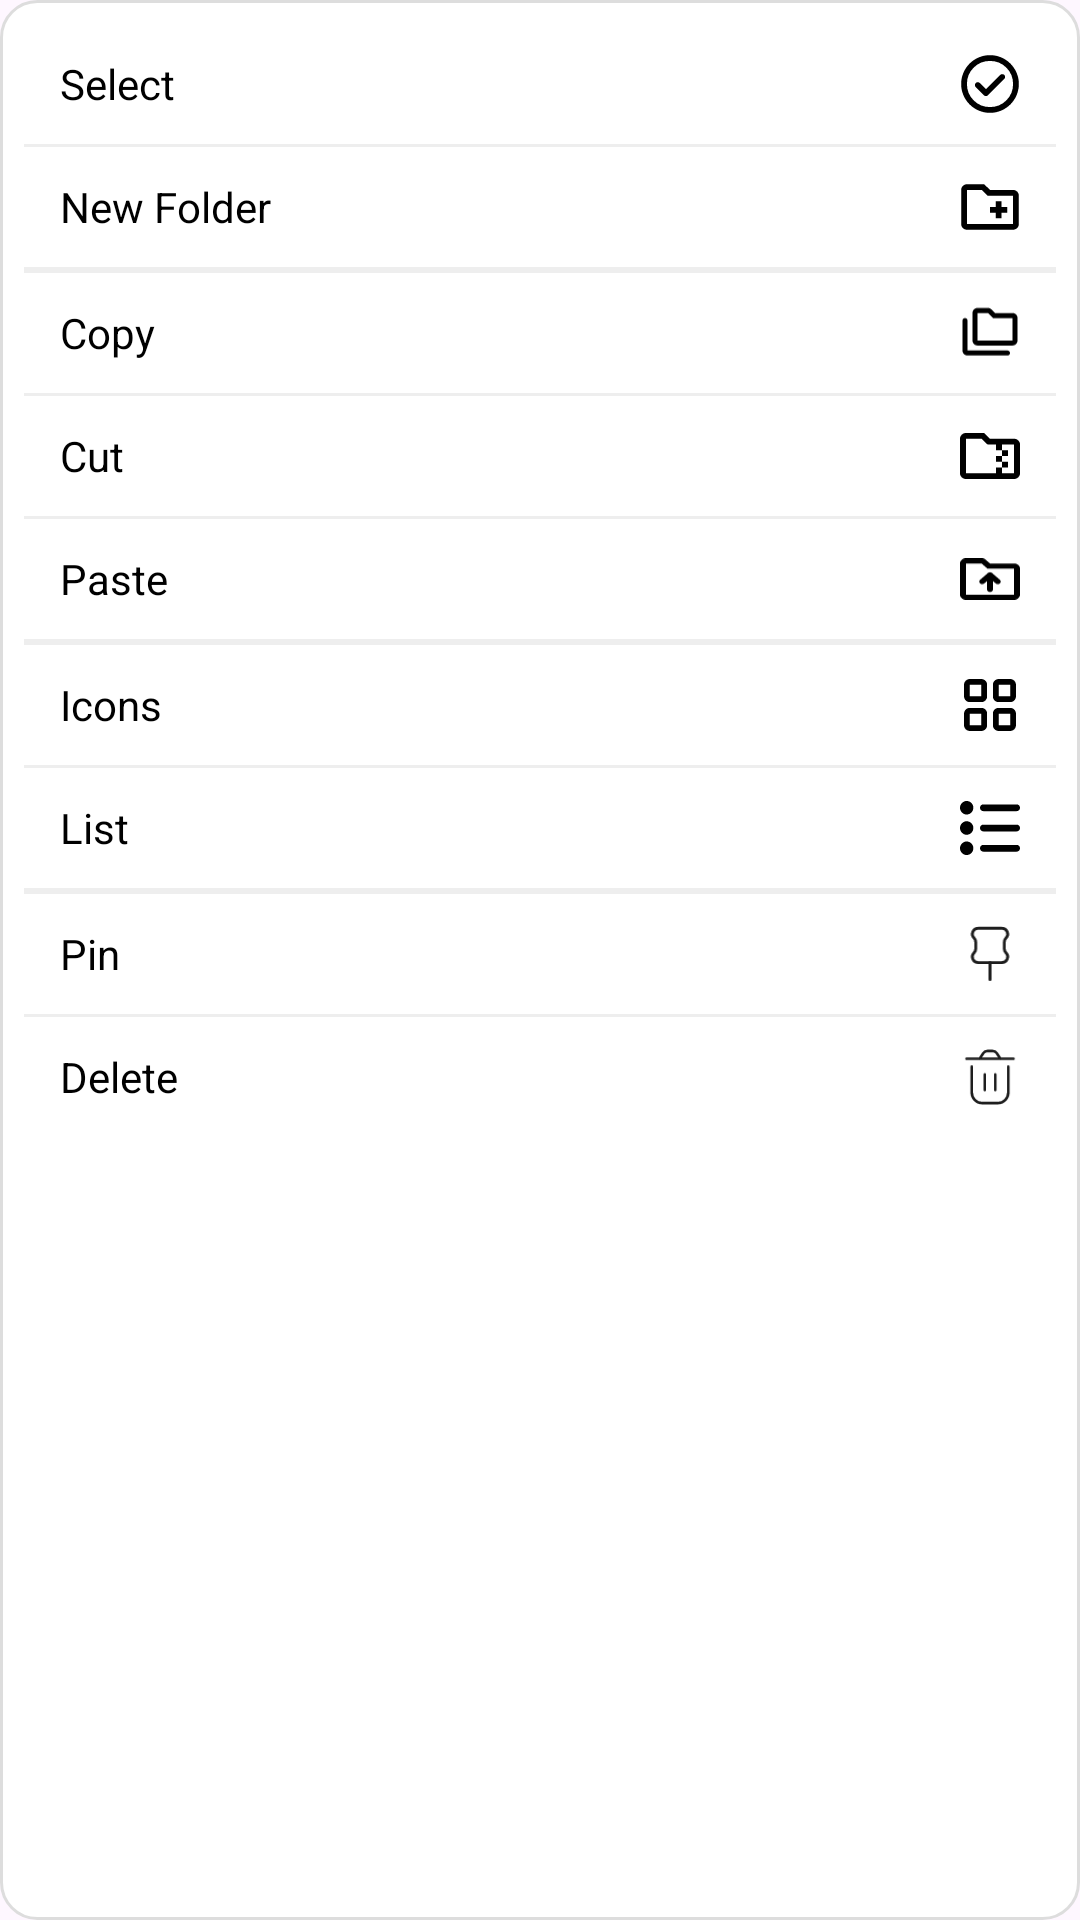

Named icons in this screenshot (1080*1920) and their centers, point (x, y):
check: point (990, 84)
file: point (990, 331)
pinblack: point (990, 953)
